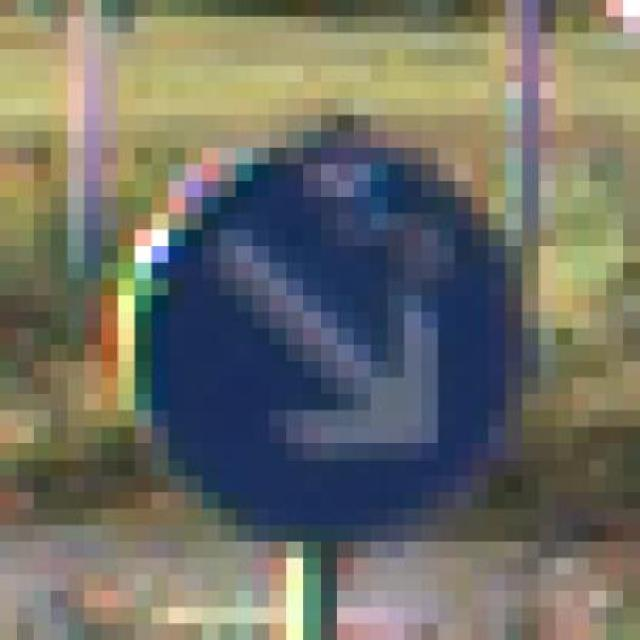Keep-Right: (58, 106, 564, 566)
